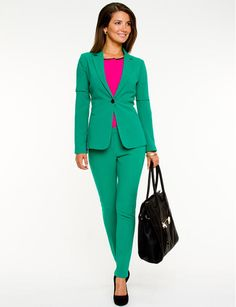feet: (101, 248, 143, 307)
